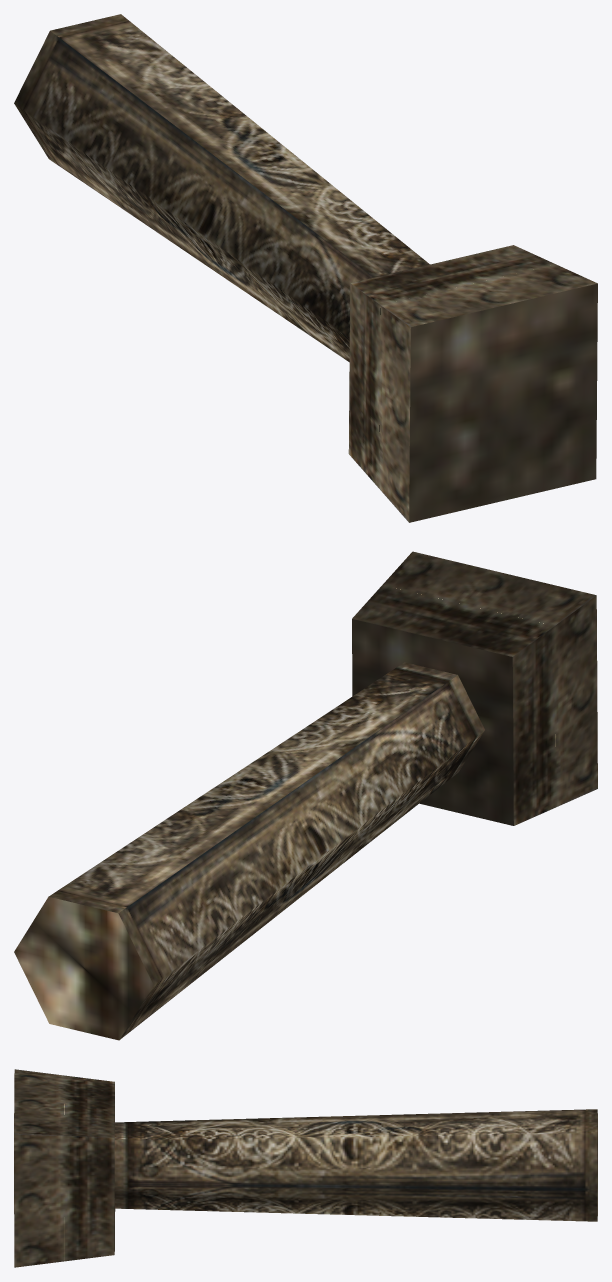
The model's file is column_02.obj.
The picture shows the model from 3 angles, top to bottom: view 1: azimuth 30°, elevation 25°; view 2: azimuth 150°, elevation 25°; view 3: azimuth 270°, elevation 25°; orthographic projection. The views are drawn at different scales.
Parts seen in each view (by area): view 1: (null); view 2: (null); view 3: (null).
Part boxes in pixels (x1,y1,x2,y2): (null): [14, 14, 597, 522]; (null): [14, 551, 597, 1040]; (null): [14, 1069, 597, 1267].
Size of the model in its own units: 0.6854 by 0.6854 by 2.67.
